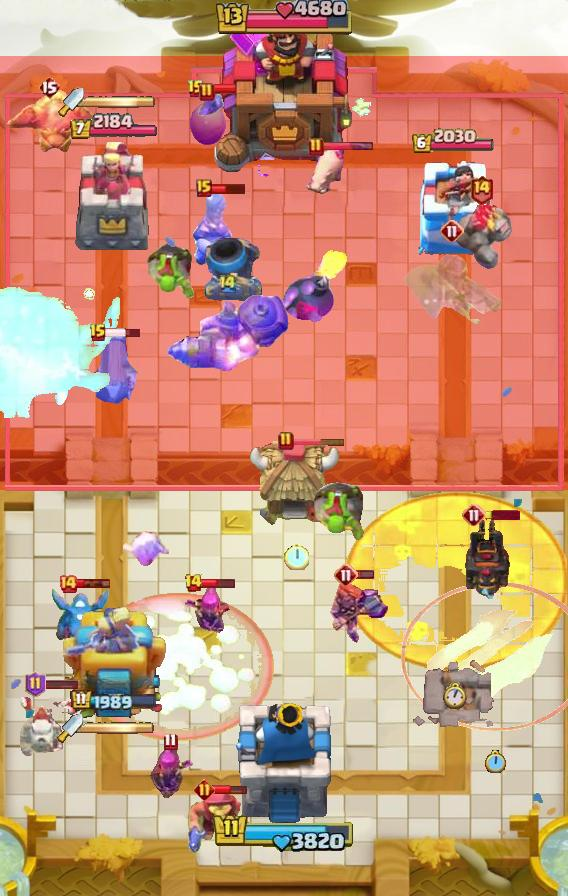archer-evolution: (463, 517, 513, 599)
baby-dragon: (281, 248, 353, 322)
bar: (60, 607, 168, 731), (73, 140, 155, 256)
bar-level: (313, 481, 367, 543), (145, 240, 195, 300)
barbarian: (196, 92, 226, 120)
barbarian-hut: (400, 248, 504, 326)
battle-healer: (90, 334, 138, 410)
clock: (212, 812, 356, 854), (213, 0, 355, 38)
elite-barbarian: (192, 192, 236, 274)
elixir: (284, 542, 309, 570), (443, 682, 467, 710), (485, 749, 507, 774)
emote: (322, 140, 374, 151), (292, 438, 346, 447), (209, 181, 246, 194), (106, 327, 143, 339), (202, 83, 238, 95), (43, 678, 79, 690), (201, 577, 236, 589), (76, 579, 112, 590), (212, 784, 248, 795), (484, 510, 520, 520), (356, 568, 375, 580)
evolution-symbol: (145, 744, 195, 804), (183, 584, 233, 640)
fireball: (187, 787, 249, 855)
giant: (304, 146, 346, 198)
graveyard: (48, 586, 110, 658)
hog: (188, 99, 226, 147)
ice-wizard: (401, 581, 568, 731)
king-tower: (211, 7, 357, 181), (235, 703, 333, 826)
king-tower-bar: (84, 95, 156, 109), (83, 721, 155, 735)
mega-knight: (0, 270, 142, 444)
mini-pekka: (17, 689, 77, 759)
mirror: (119, 530, 169, 568)
mother-witch: (0, 88, 102, 158)
musketeer: (204, 237, 264, 301)
phoenix-big: (81, 591, 275, 742)
phoenix-egg: (344, 493, 568, 672)
prince: (249, 438, 343, 528)
queen-tower: (407, 158, 499, 256)
selected: (69, 113, 159, 141), (411, 128, 495, 155), (70, 689, 158, 713)
tesla-evolution: (329, 579, 391, 647)
text: (470, 175, 495, 206), (440, 219, 464, 243), (462, 503, 486, 527), (334, 563, 358, 587), (25, 671, 46, 697), (38, 75, 60, 99), (193, 779, 215, 800), (218, 273, 238, 294), (58, 574, 78, 594), (184, 573, 203, 593), (187, 79, 205, 99), (89, 323, 107, 343), (199, 82, 215, 102), (308, 137, 324, 157), (278, 431, 294, 451), (196, 179, 212, 197), (163, 733, 178, 751)
valkyrie-evolution: (449, 205, 513, 273)
wizard: (166, 294, 290, 372)
